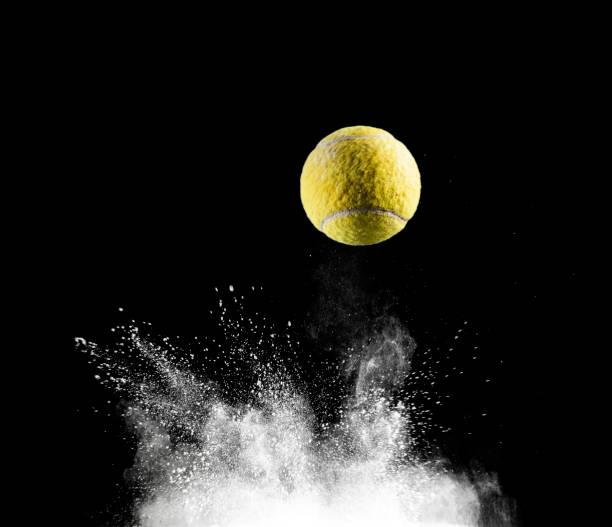ball_tennis: (300, 125, 423, 249)
